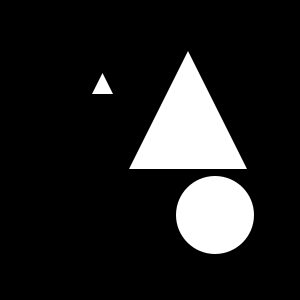rectangle: (176, 176, 254, 254)
triangle: (129, 51, 247, 169), (92, 73, 113, 94)
